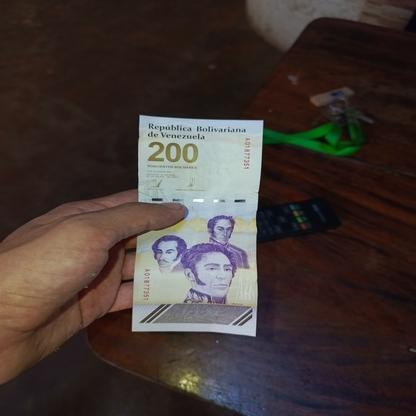two_hundred-front-vef: (130, 115, 264, 336)
